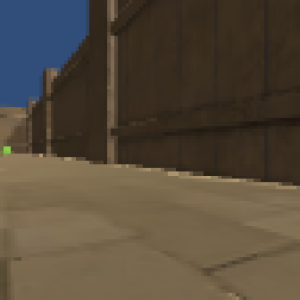goodGoal: (3, 144, 12, 155)
